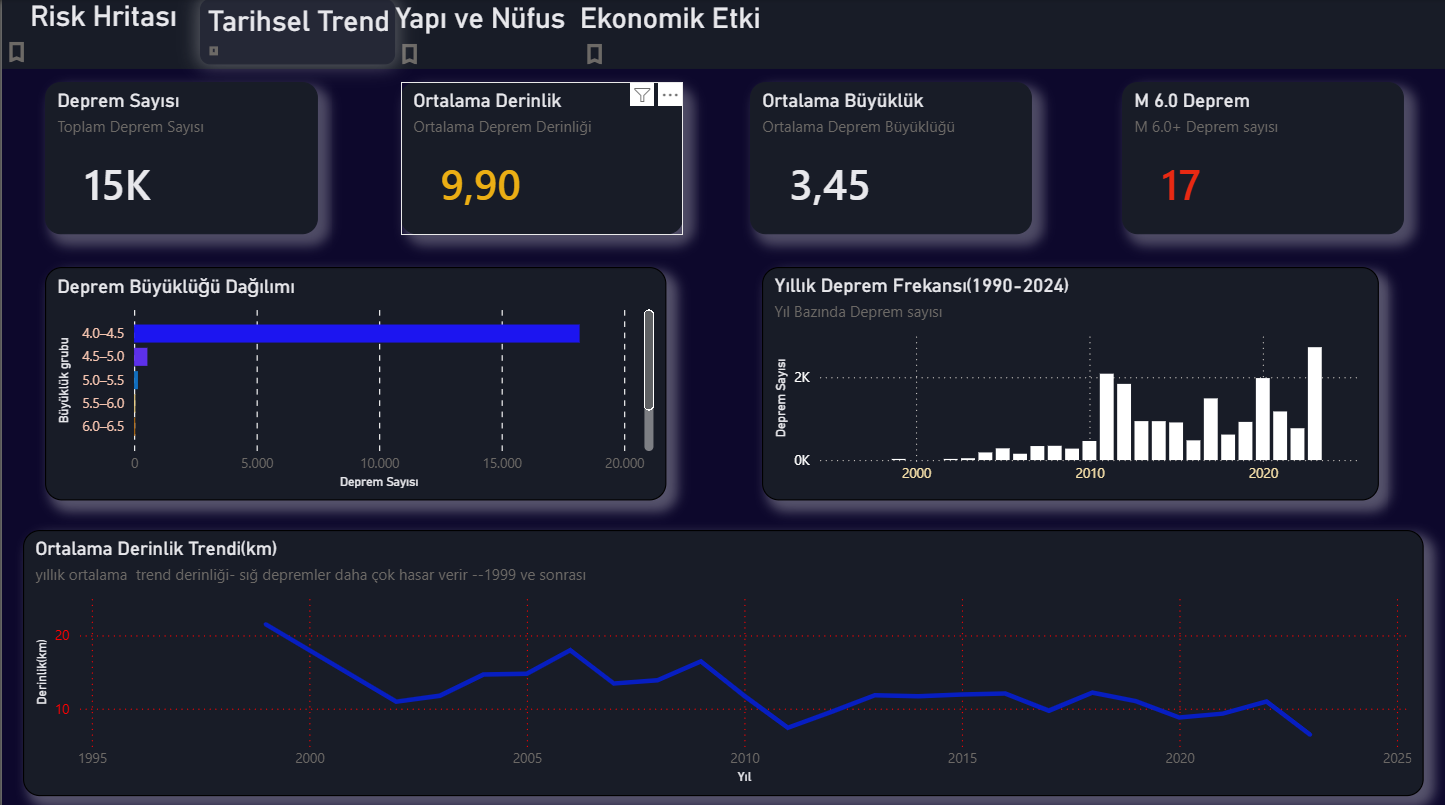

What the dashboard file says about the page in this screenshot:
{"tool":"powerbi","page":{"name":"Tarihsel Trend","canvas":[1280,720],"ordinal":1},"visuals":[{"type":"actionButton","box":[0,0,1279.7,61.8],"z":0},{"type":"actionButton","title":"Ekonomik Etki","box":[512.6,1.9,180,60],"z":1000},{"type":"actionButton","title":"Yapı ve Nüfus ","box":[348.7,1.9,180,60],"z":2000},{"type":"actionButton","title":"Tarihsel Trend","box":[175.3,0,173.4,58.4],"z":3000},{"type":"actionButton","title":"Risk Hritası","box":[0,0,180,60],"z":4000},{"type":"cardVisual","title":"Deprem Sayısı","fields":{"Data":["Sum(il_sismik_istatistik_v2.deprem_sayisi)"]},"box":[37.9,73.9,242.2,135.2],"z":5000},{"type":"cardVisual","title":"Ortalama Derinlik","fields":{"Data":["Avg(afad_depremler_temiz_detayli.derinlik_km)"]},"box":[354,73.9,250,135.2],"z":6000},{"type":"cardVisual","title":"M 6.0 Deprem","fields":{"Data":["Sum(il_sismik_istatistik_v2.m6_ustu)"]},"box":[993.1,73.9,250,135.2],"z":7000},{"type":"cardVisual","title":"Ortalama Büyüklük","fields":{"Data":["Avg(il_sismik_istatistik_v2.ort_buyukluk)"]},"box":[663.3,73.9,250,135.2],"z":8000},{"type":"barChart","title":"Deprem Büyüklüğü Dağılımı","fields":{"Category":["afad_depremler_temiz_detayli.buyukluk_grubu"],"Y":["CountNonNull(afad_depremler_temiz_detayli.buyukluk)"]},"box":[37.9,237.3,550.5,207.2],"z":9000},{"type":"columnChart","title":"Yıllık Deprem Frekansı(1990-2024)","fields":{"Category":["DimTarih.Yıl"],"Y":["CountNonNull(afad_depremler_temiz_detayli.buyukluk)"]},"box":[674,237.3,546.6,207.2],"z":10000},{"type":"lineChart","title":"Ortalama Derinlik Trendi(km)","fields":{"Category":["DimTarih.Yıl"],"Y":["Avg(afad_depremler_temiz_detayli.derinlik_km)"]},"box":[18.6,470.8,1242.3,235.9],"z":11000}]}

Visuals, with their boxes in screenshot pixels (x1, y1, x2, y2), scaled from the page's 1280x720 canvas onto the 1445x805 screenshot:
actionButton: region(0, 0, 1444, 69)
"Ekonomik Etki" actionButton: region(579, 2, 782, 69)
"Yapı ve Nüfus " actionButton: region(394, 2, 597, 69)
"Tarihsel Trend" actionButton: region(198, 0, 394, 65)
"Risk Hritası" actionButton: region(0, 0, 203, 67)
"Deprem Sayısı" cardVisual: region(43, 83, 316, 234)
"Ortalama Derinlik" cardVisual: region(400, 83, 682, 234)
"M 6.0 Deprem" cardVisual: region(1121, 83, 1403, 234)
"Ortalama Büyüklük" cardVisual: region(749, 83, 1031, 234)
"Deprem Büyüklüğü Dağılımı" barChart: region(43, 265, 664, 497)
"Yıllık Deprem Frekansı(1990-2024)" columnChart: region(761, 265, 1378, 497)
"Ortalama Derinlik Trendi(km)" lineChart: region(21, 526, 1423, 790)
